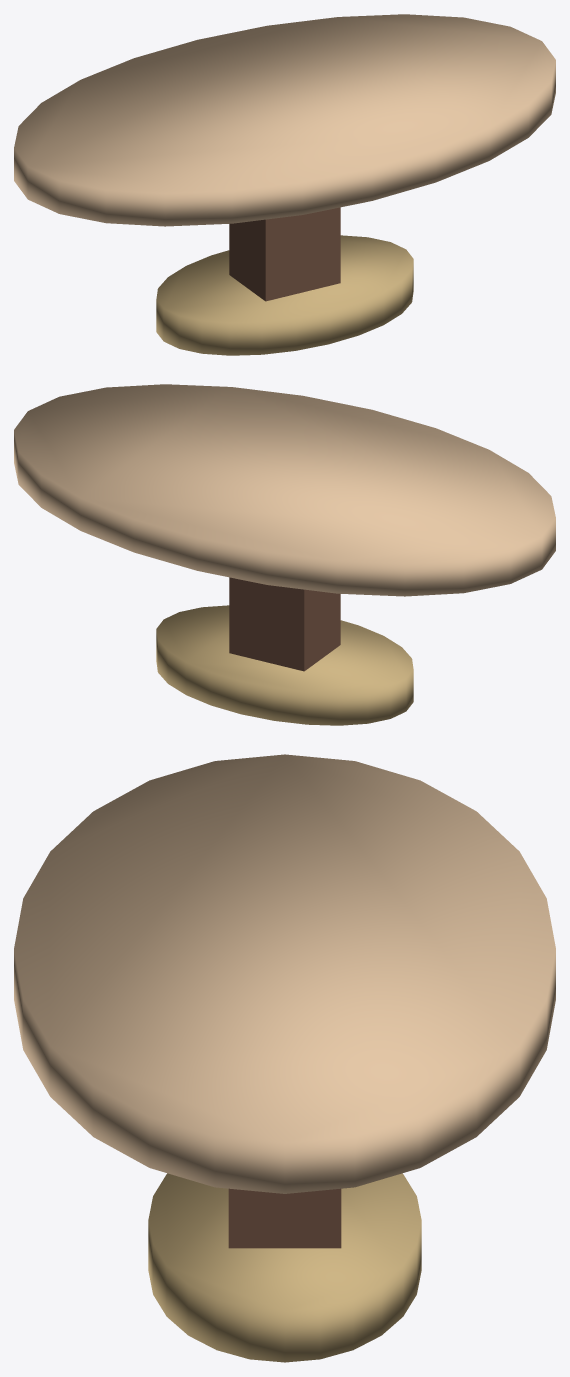
Rendered from diningtable.oval-old.glb.
3 views of the same model, one above another, from view 1: azimuth 30°, elevation 25°; view 2: azimuth 150°, elevation 25°; view 3: azimuth 270°, elevation 25° (orthographic). The views are drawn at different scales.
Visible parts, largest first — view 1: long oval dining top; view 2: long oval dining top; view 3: long oval dining top.
Boxes of the visible parts, x1,y1,x2,y2 form: long oval dining top: (14, 14, 555, 355); long oval dining top: (14, 384, 555, 725); long oval dining top: (14, 754, 555, 1362).
Size of the model in its own units: 2.12 by 0.82 by 1.25.
